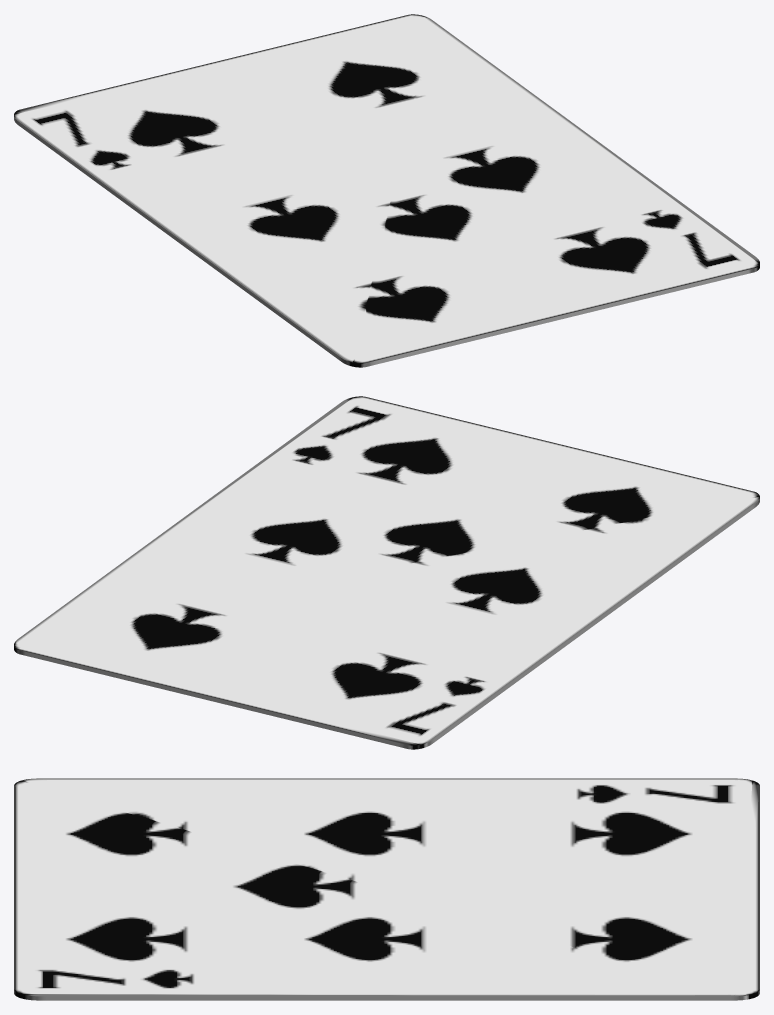
Rendered from Spade_7.fbx.
3 renders of one model, top to bottom at view 1: azimuth 30°, elevation 25°; view 2: azimuth 150°, elevation 25°; view 3: azimuth 270°, elevation 25°, orthographic. The views are drawn at different scales.
Parts seen in each view (by area): view 1: Card_Spade; view 2: Card_Spade; view 3: Card_Spade.
Part boxes in pixels (<box>): Card_Spade: <box>14,14,759,367</box>; Card_Spade: <box>14,396,759,749</box>; Card_Spade: <box>14,778,759,1000</box>.
Bounding box in the file's own units: 8.6 × 0.079 × 12.45.
